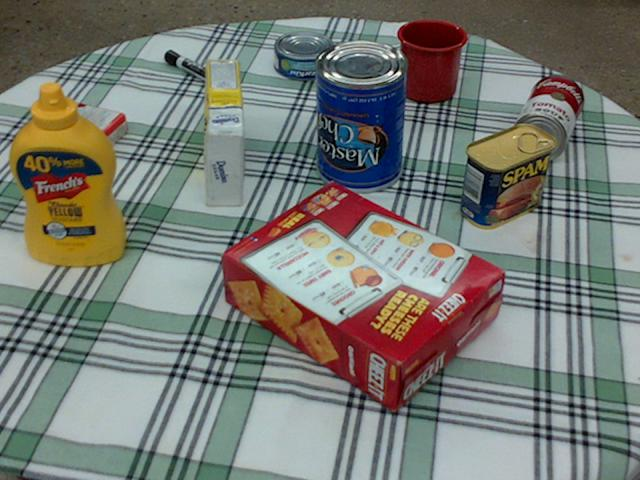cracker_box: (221, 181, 504, 411)
gelatin_box: (30, 100, 126, 160)
large_marker: (165, 49, 230, 90)
master_chef_can: (313, 40, 408, 191)
mug: (398, 19, 468, 102)
mustard_bottle: (9, 82, 125, 264)
potted_meat_can: (459, 124, 554, 228)
sugar_box: (203, 59, 242, 205)
tomato_soup_can: (511, 76, 583, 160)
tuna_fish_can: (274, 31, 334, 79)
